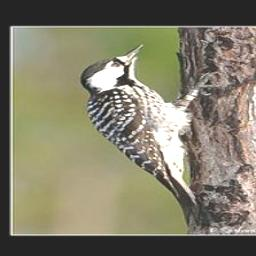Woodpecker: (79, 44, 228, 229)
